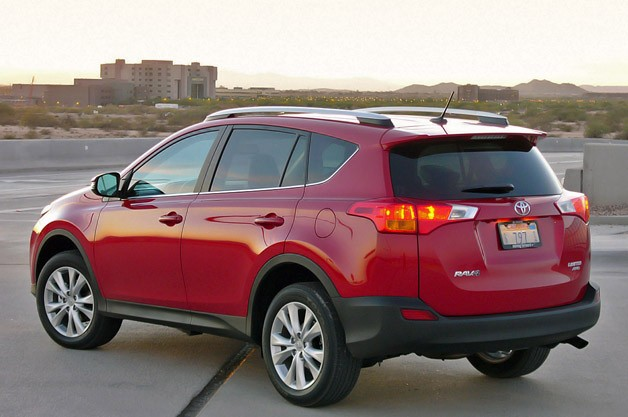Toyota RAV-4: (28, 112, 602, 409)
